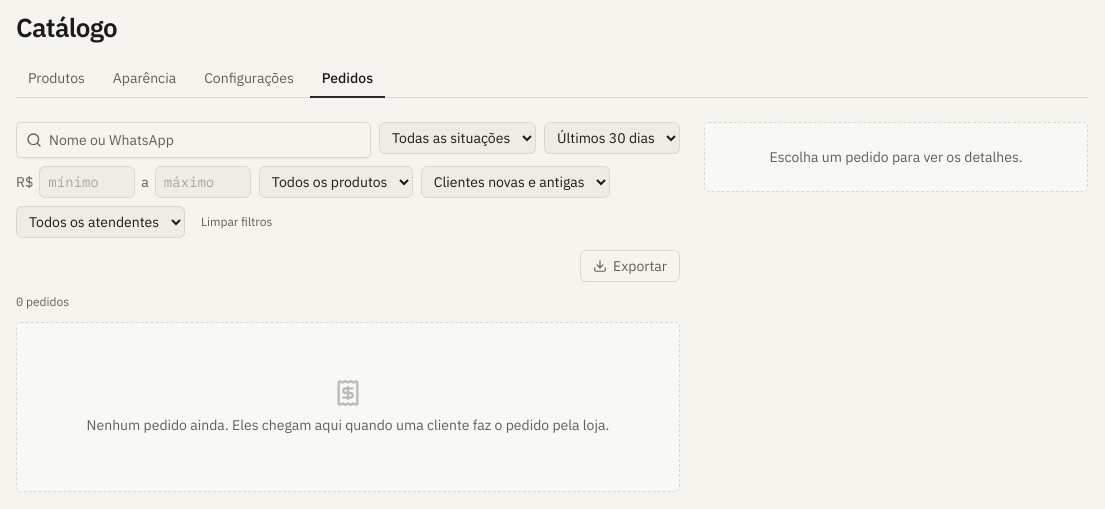
Test case: B39-01 — filtros da tela Pedidos › CA-B39-10: should voltar todos os filtros ao padrão ao clicar em Limpar filtros
The width and height of the screenshot is (1105, 509).
Select "Fechado" in the dropdown named "Filtrar por situação" at (458, 138), box [379,122,536,154]
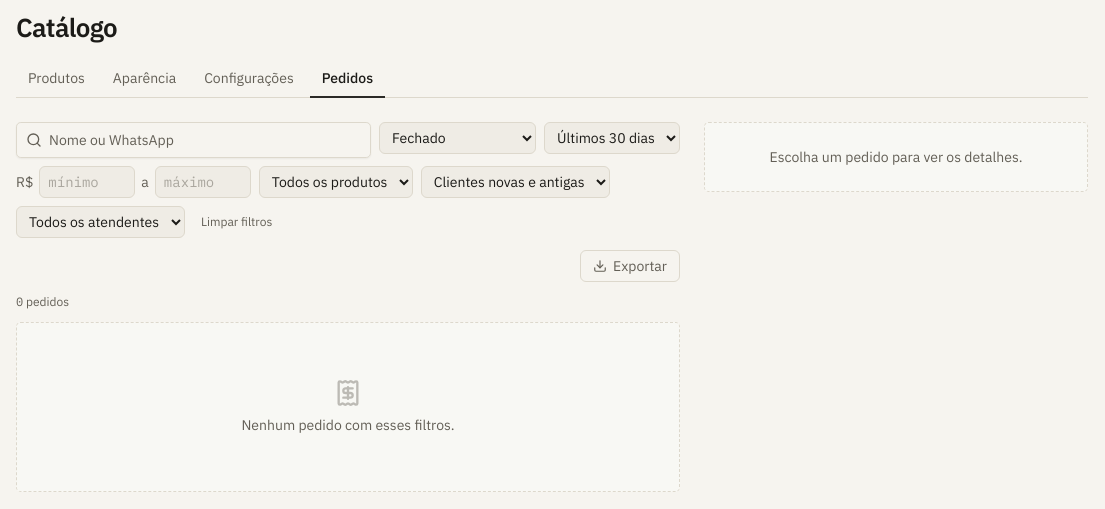
Select "Tudo" in the dropdown named "Filtrar por período" at (612, 138), box [544,122,680,154]
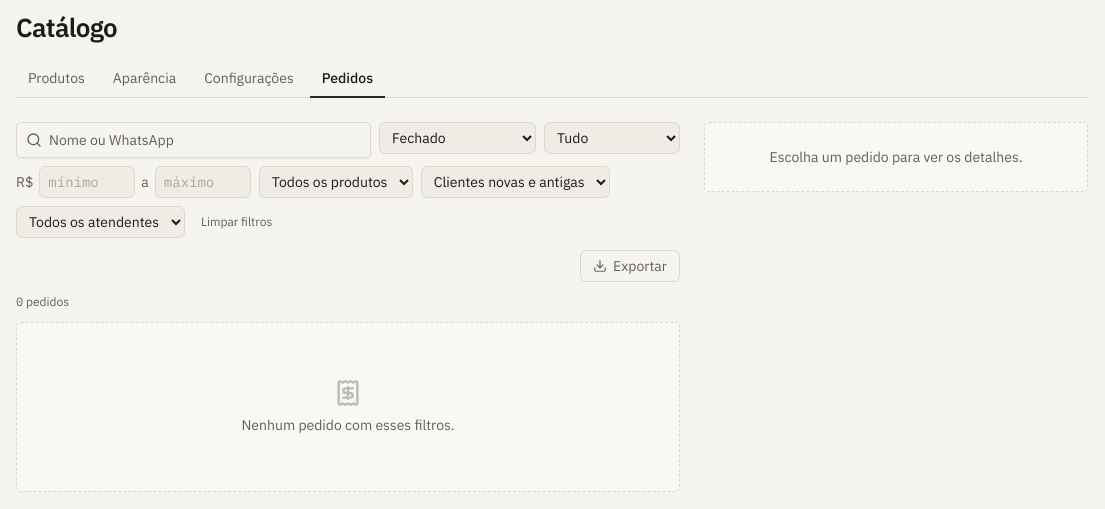
Type "500" into the number field named "Valor mínimo" at (87, 182), box [39,166,135,198]
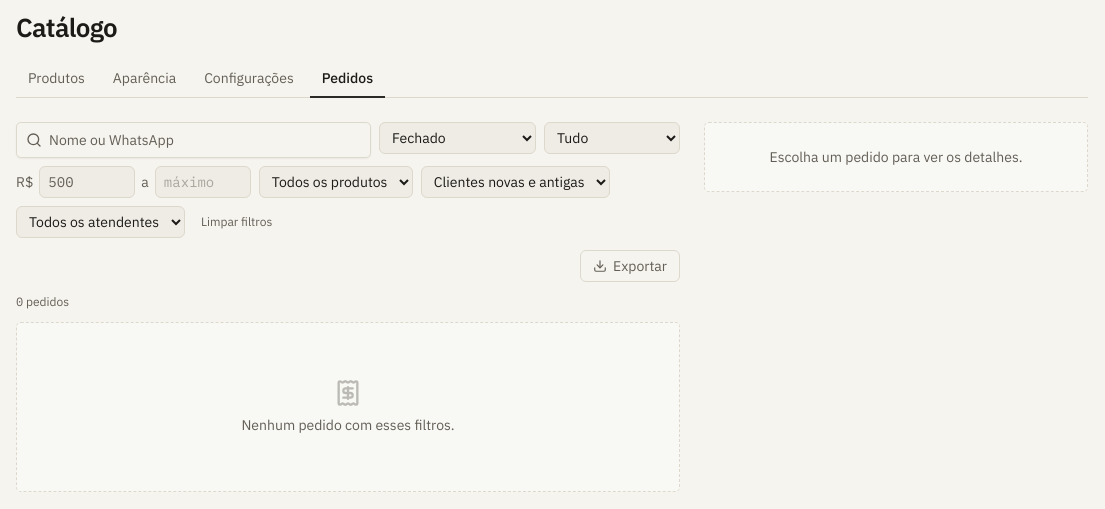
Select "Cliente nova" in the dropdown named "Filtrar por cliente nova ou antiga" at (515, 182), box [421,166,610,198]
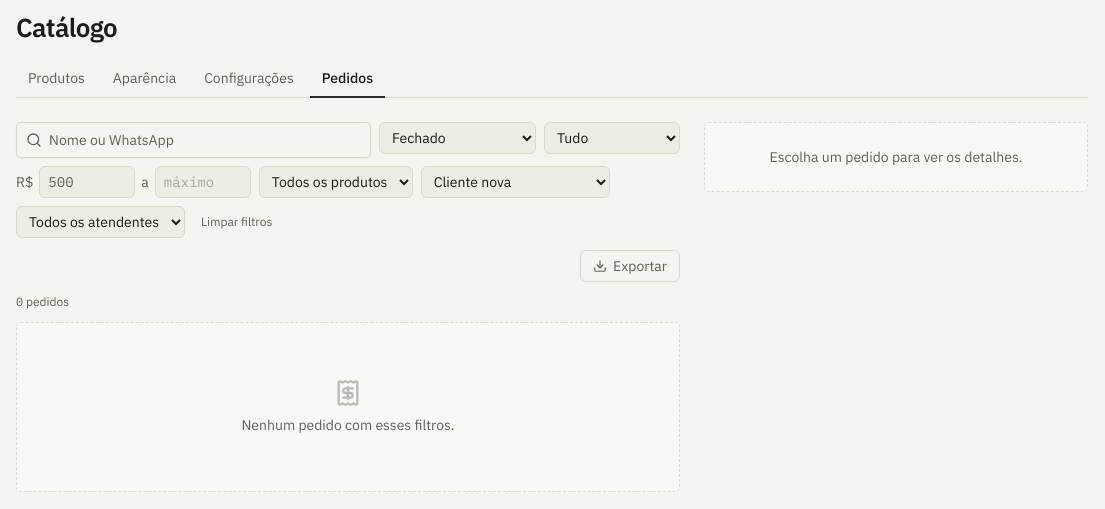
Select "Ana" in the dropdown named "Filtrar por atendente da cliente" at (100, 222), box [16,206,185,238]
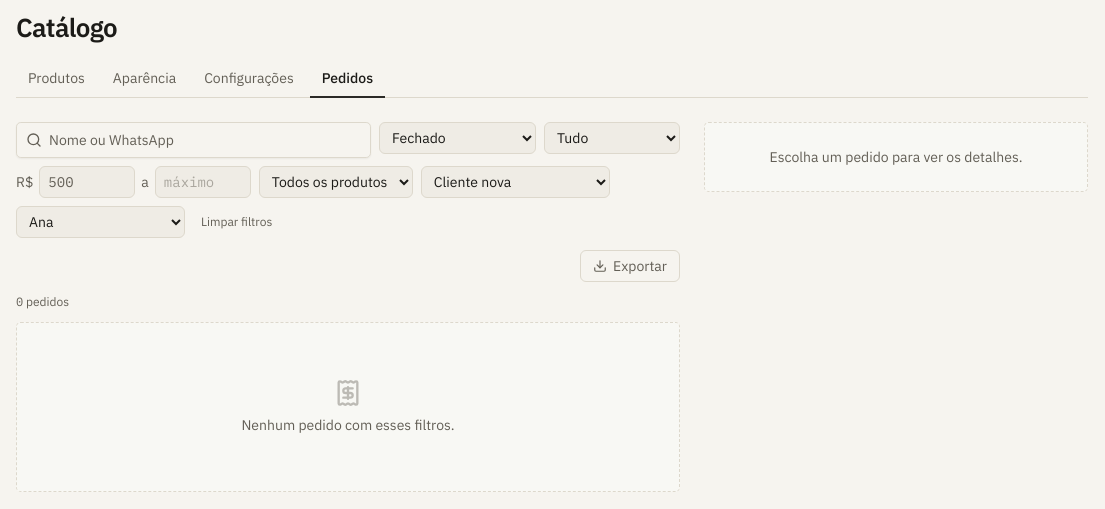
Click the button "Limpar filtros" at (237, 222), box [193,206,280,238]
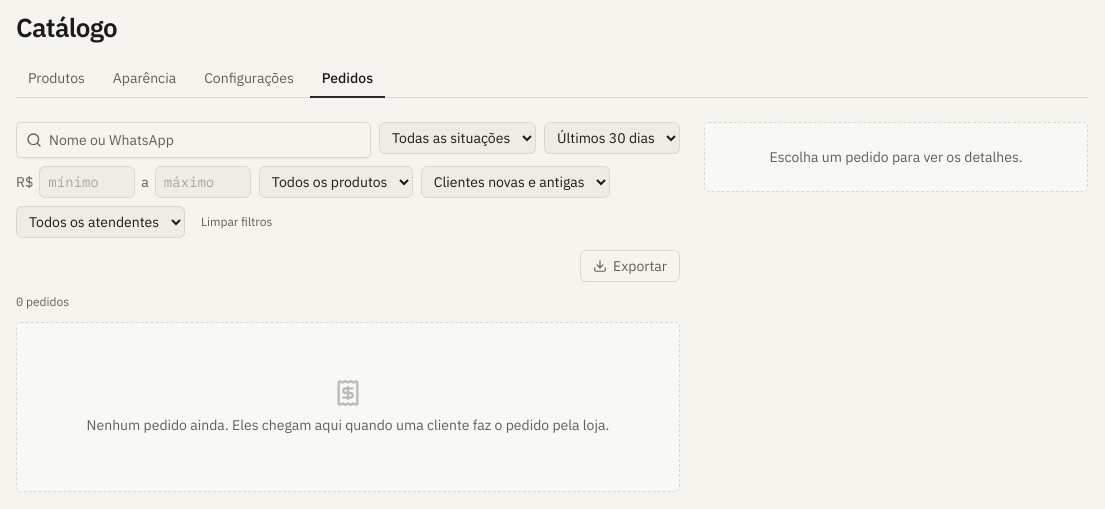
Check: the number field named "Valor mínimo" is empty, box [39,166,135,198]
